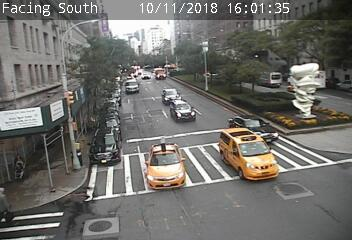car: (218, 128, 278, 180), (227, 115, 279, 146), (149, 143, 183, 187), (171, 100, 194, 122), (161, 88, 181, 105), (125, 79, 139, 93), (153, 68, 166, 80), (141, 73, 150, 80)
